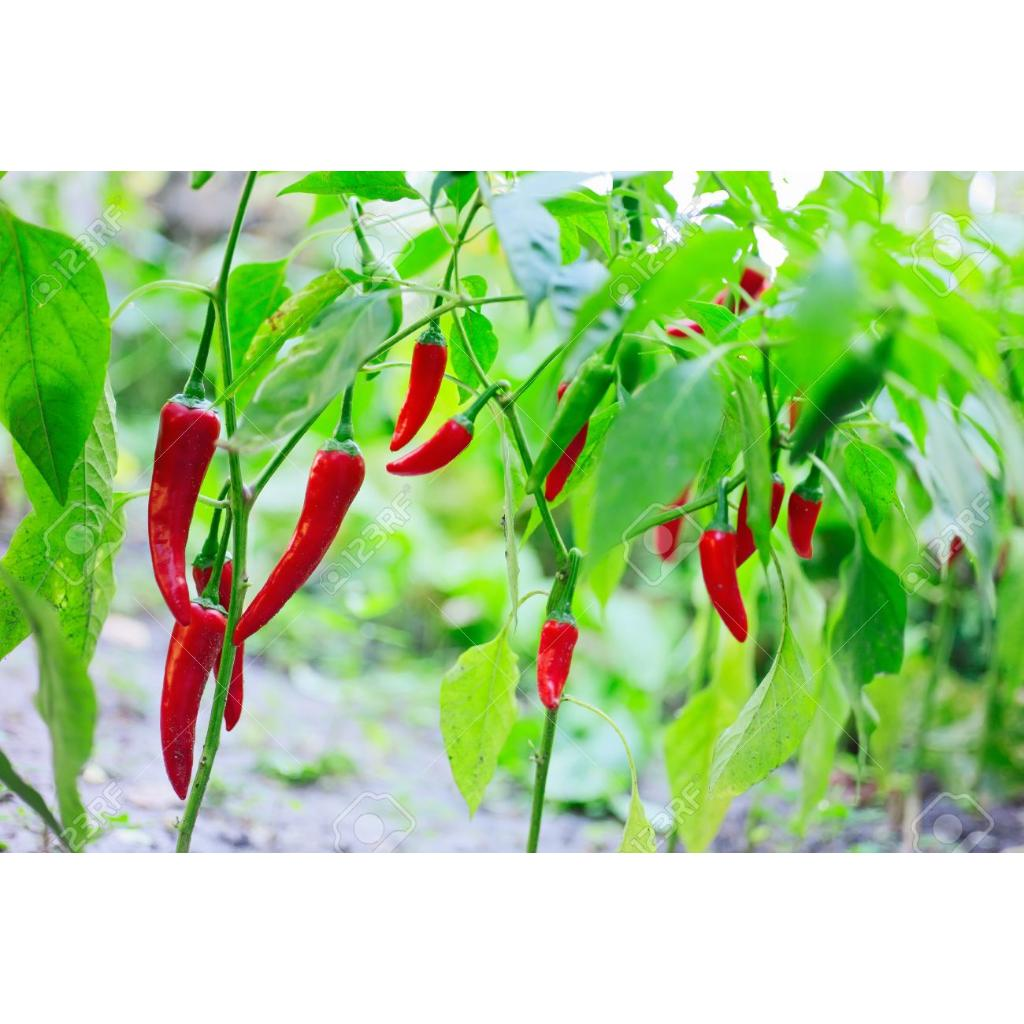chili: (234, 449, 364, 644), (148, 399, 220, 625), (160, 603, 226, 799), (390, 321, 448, 450), (700, 529, 748, 641), (386, 417, 472, 475), (536, 619, 578, 709), (788, 493, 822, 559)
